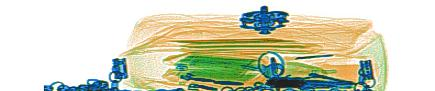plasticBottleWithaNozzle: (293, 54, 383, 85)
